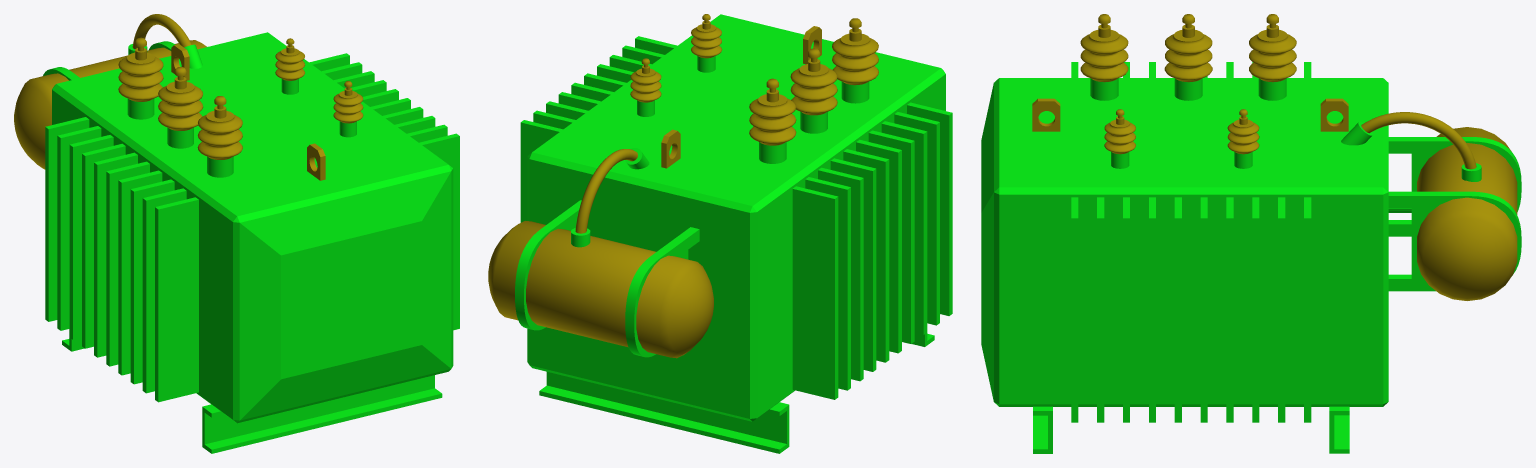
The model's file is Transformator.FBX.
3 views of the same model, side by side, from view 1: azimuth 30°, elevation 25°; view 2: azimuth 150°, elevation 25°; view 3: azimuth 270°, elevation 25° (orthographic). The views are drawn at different scales.
Visible parts, largest first — view 1: Transformator, izolator; view 2: Transformator, izolator; view 3: Transformator, izolator.
Part boxes in pixels (x1,y1,x2,y2): Transformator: (43,32,459,453); izolator: (14,14,363,180); Transformator: (515,14,952,453); izolator: (488,14,878,358); Transformator: (981,62,1521,453); izolator: (1032,14,1517,300).
Size of the model in its own units: 7432 by 10875 by 7567.
